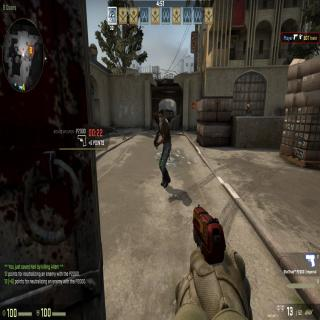T-Body: (152, 107, 174, 189), (246, 99, 253, 118)
T-Head: (157, 108, 166, 124)
